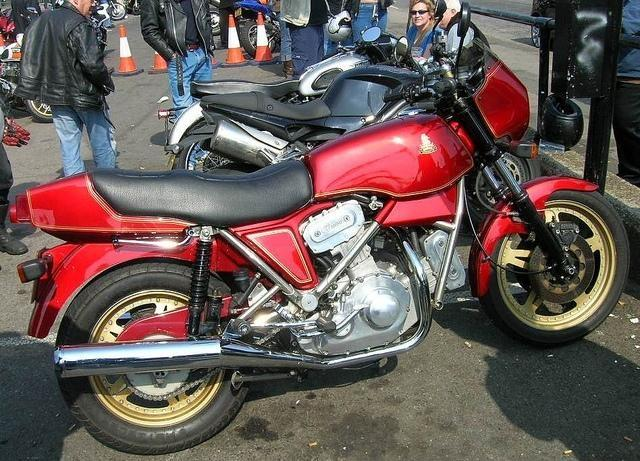motorcycle: (8, 0, 628, 454), (158, 24, 423, 170)
